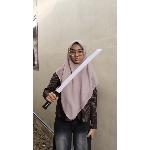Pedang: (42, 46, 106, 110)
